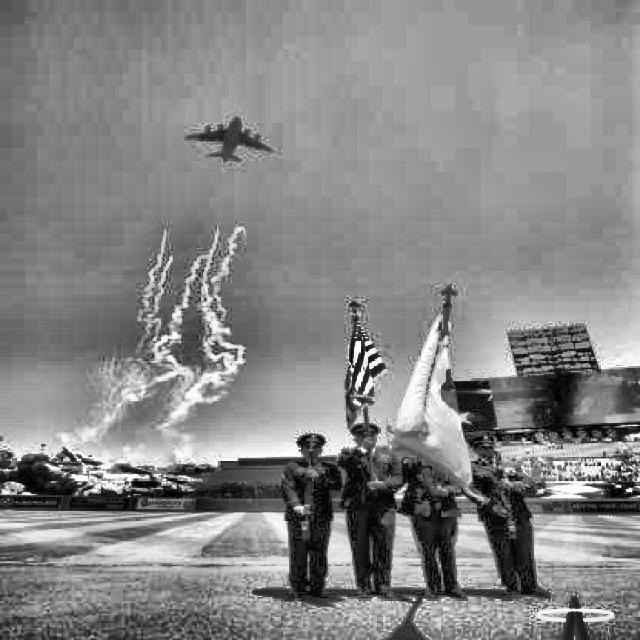C17: (184, 116, 273, 162)
